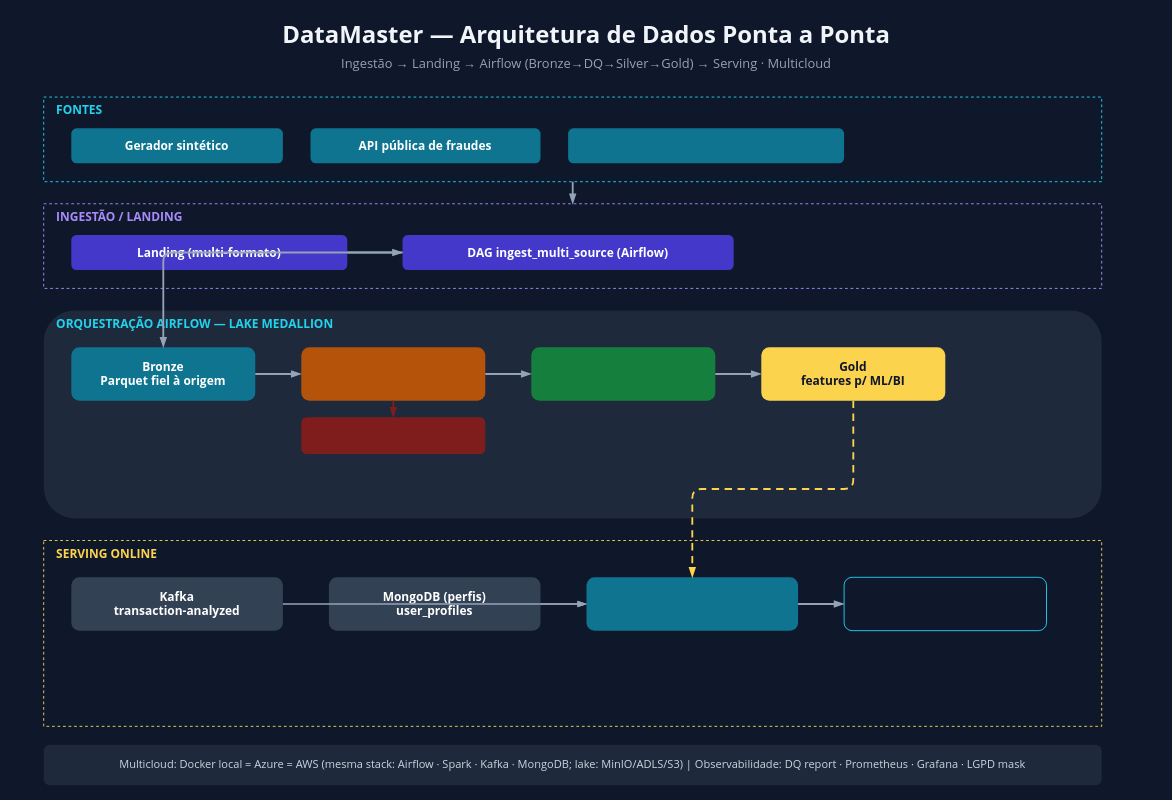
Image size: 1172x800. Some labels were removed from this diagram. The shapes that lost their labels are listed below. From the top down, each one's centre as x and y in pixels, then its label:
the point at 706,145: JSON · CSV · Parquet · XML
the point at 393,373: DQ Gate nulos·dup·faixa·fraude
the point at 623,373: Silver limpo + enriquecido
the point at 393,435: falha → Silver NÃO sobe dq_latest.json
the point at 692,603: API Java (score) /analyze · LGPD mask
the point at 944,603: Dashboard / Portal prova de valor
